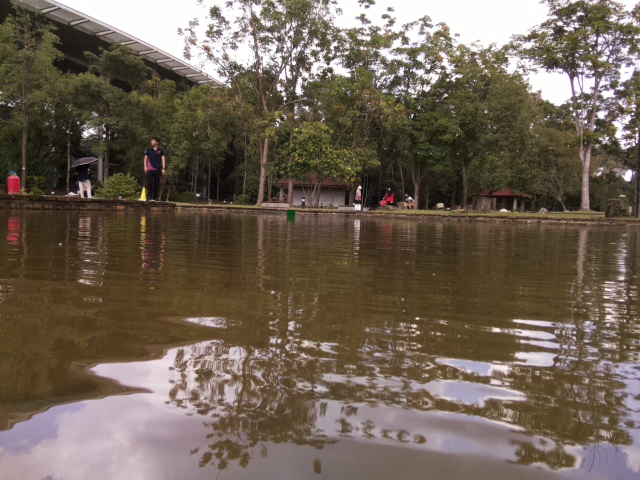checkpoint: (137, 186, 148, 202)
obstacle: (285, 208, 297, 217)
